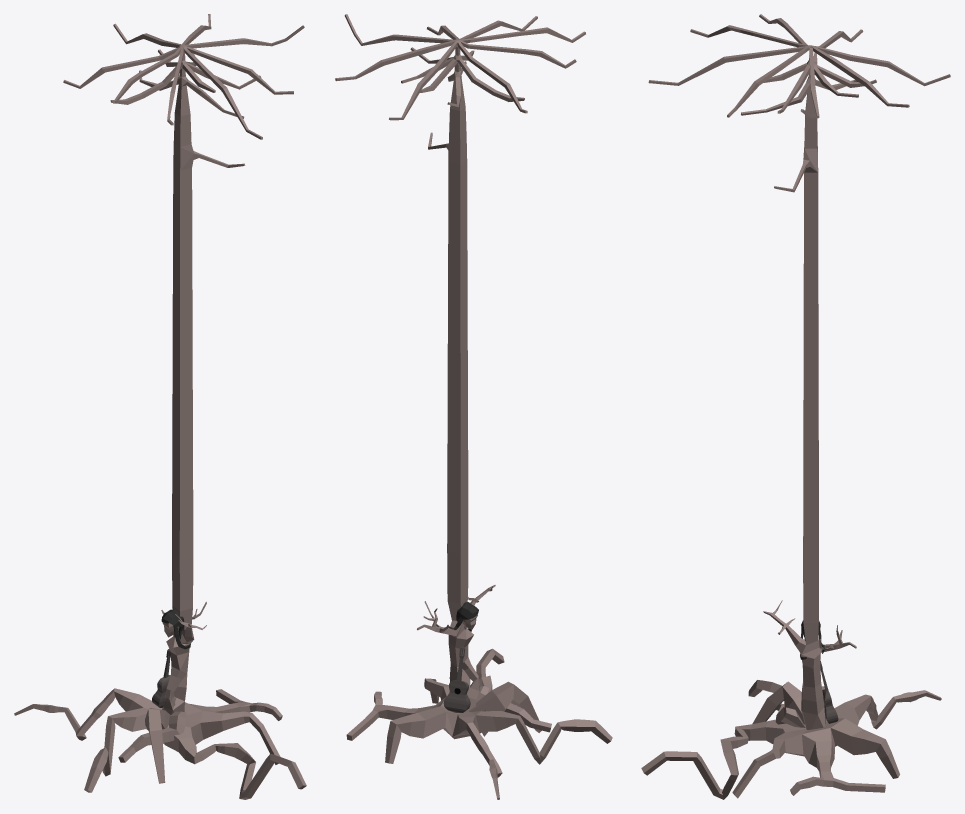
The model's file is Violeta_Parra_1.2.fbx.
The picture shows the model from 3 angles, left to right: view 1: azimuth 30°, elevation 25°; view 2: azimuth 150°, elevation 25°; view 3: azimuth 270°, elevation 25°; orthographic projection. The views are drawn at different scales.
Parts seen in each view (by area): view 1: arbol Humano; view 2: arbol Humano, Cube.003; view 3: arbol Humano.
Part boxes in pixels (x1=…): arbol Humano: x1=14, y1=14, x2=306, y2=799; arbol Humano: x1=335, y1=14, x2=612, y2=799; Cube.003: x1=443, y1=646, x2=470, y2=712; arbol Humano: x1=641, y1=14, x2=950, y2=799.
Bounding box in the file's own units: 2605 × 7424 × 2798.
